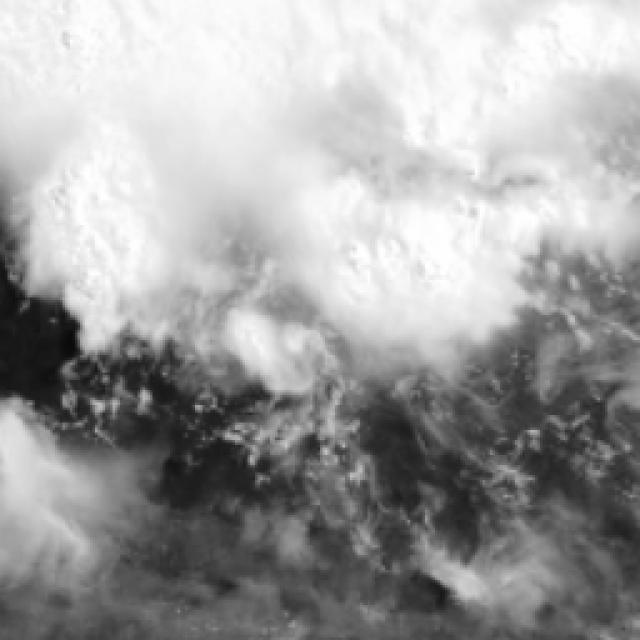CB: (4, 1, 640, 132), (59, 131, 509, 283)
